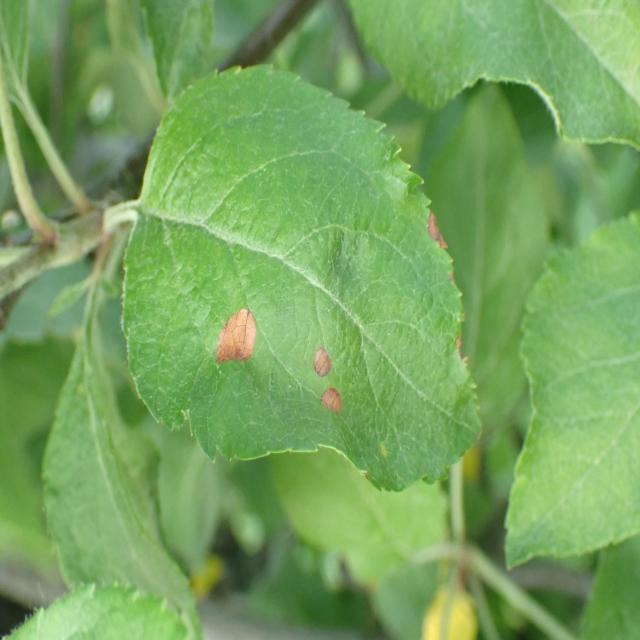Black Rot: (210, 276, 262, 389), (414, 190, 464, 270), (308, 382, 368, 438), (302, 328, 338, 386)
